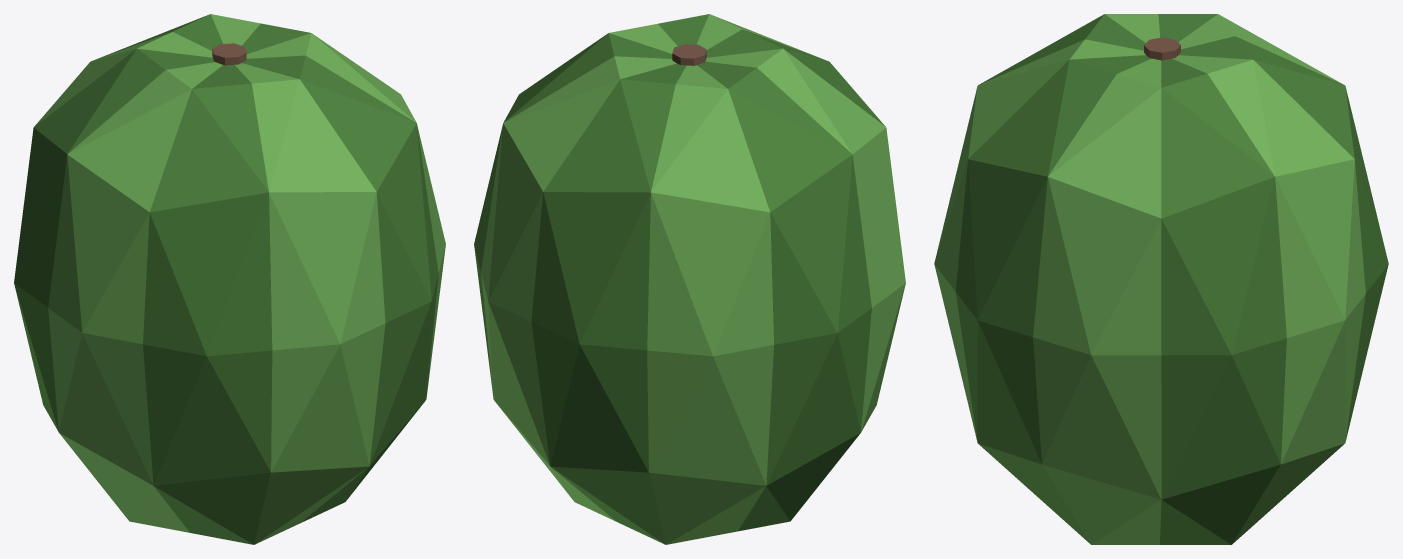
File: SM_Food_Watermelon_01.fbx
The picture shows the model from 3 angles, left to right: view 1: azimuth 30°, elevation 25°; view 2: azimuth 150°, elevation 25°; view 3: azimuth 270°, elevation 25°; orthographic projection. The views are drawn at different scales.
Visible parts, largest first — view 1: SM_Food_Watermelon_01; view 2: SM_Food_Watermelon_01; view 3: SM_Food_Watermelon_01.
Boxes of the visible parts, x1,y1,x2,y2 form: SM_Food_Watermelon_01: [14, 14, 445, 544]; SM_Food_Watermelon_01: [474, 14, 905, 544]; SM_Food_Watermelon_01: [934, 14, 1388, 544].
Size of the model in its own units: 0.2942 by 0.3631 by 0.3093.
